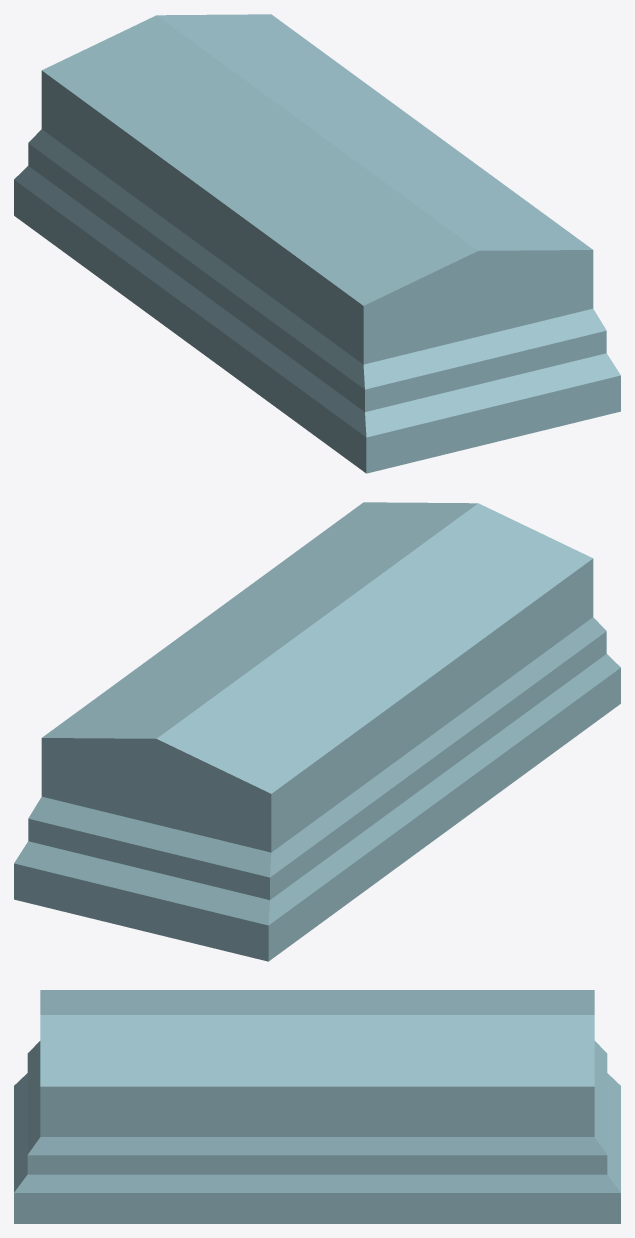
File: gravestoneFlatOpen.dae
The picture shows the model from 3 angles, top to bottom: view 1: azimuth 30°, elevation 25°; view 2: azimuth 150°, elevation 25°; view 3: azimuth 270°, elevation 25°; orthographic projection. The views are drawn at different scales.
Parts seen in each view (by area): view 1: gravestoneFlatOpen, lid; view 2: gravestoneFlatOpen, lid; view 3: gravestoneFlatOpen, lid.
Boxes of the visible parts, left/top/right/bottom form: gravestoneFlatOpen: left=14, top=81, right=620, bottom=473; lid: left=41, top=14, right=593, bottom=315; gravestoneFlatOpen: left=14, top=569, right=620, bottom=961; lid: left=41, top=502, right=593, bottom=803; gravestoneFlatOpen: left=14, top=1041, right=620, bottom=1223; lid: left=40, top=990, right=594, bottom=1095.
Bounding box in the file's own units: 0.472 × 0.32 × 1.13.
